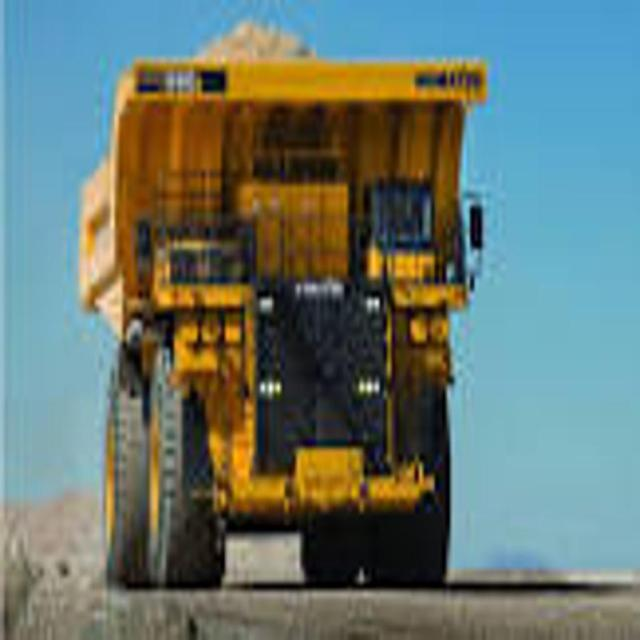dump_truck: (72, 7, 494, 598)
